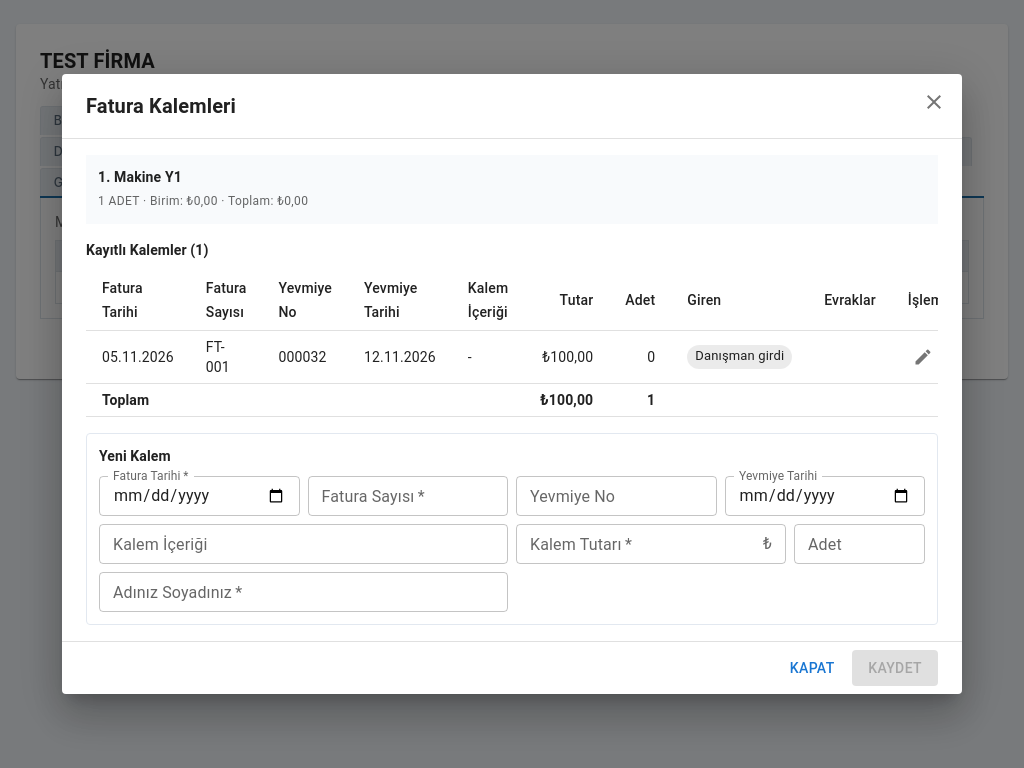
personel kaynaklı yerli faturanın değerleri ve yevmiyesi müşteri linkinden düzeltilir
The image size is (1024, 768).
Earlier steps of the test are not shown.
Later steps or results of the test are not shown.
Click the button named "FT-001 düzenle": {"x": 923, "y": 357} 908,342 -> 938,372
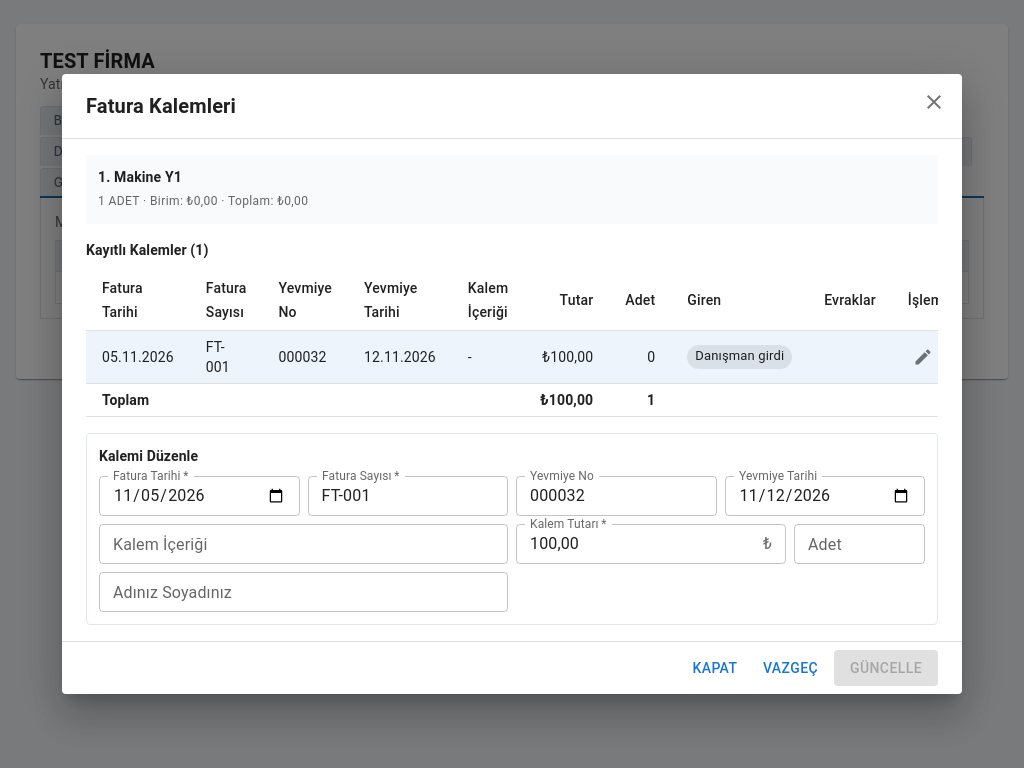
Expected: the button "Güncelle" is disabled, 834,650 -> 938,686
Expected: the field labelled "Yevmiye No" holds "000032", 516,476 -> 716,516
Expected: the date field labelled "Yevmiye Tarihi" holds "2026-11-12", 724,476 -> 925,516
In the date field labelled "Fatura Tarihi *": {"x": 199, "y": 496} 99,476 -> 300,516, type "2026-11-06"
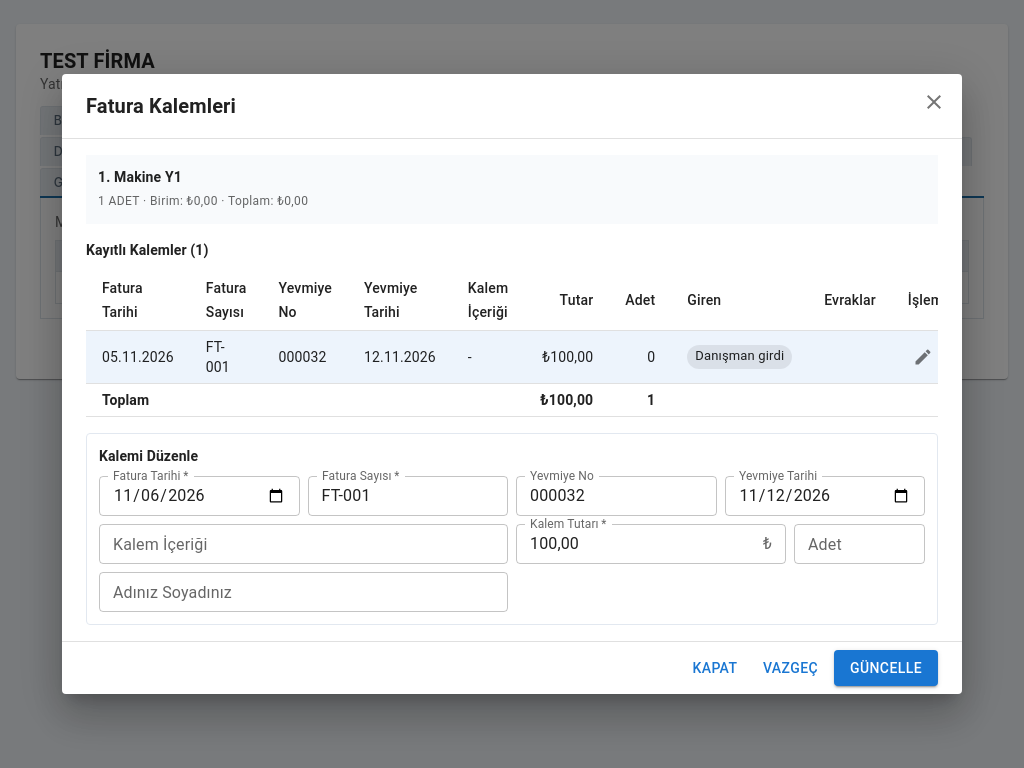
Replace the text in the field labelled "Fatura Sayısı *" with "FT-002": {"x": 408, "y": 496} 308,476 -> 508,516
Clear the field labelled "Yevmiye No": {"x": 616, "y": 496} 516,476 -> 716,516
Clear the date field labelled "Yevmiye Tarihi": {"x": 825, "y": 496} 724,476 -> 925,516
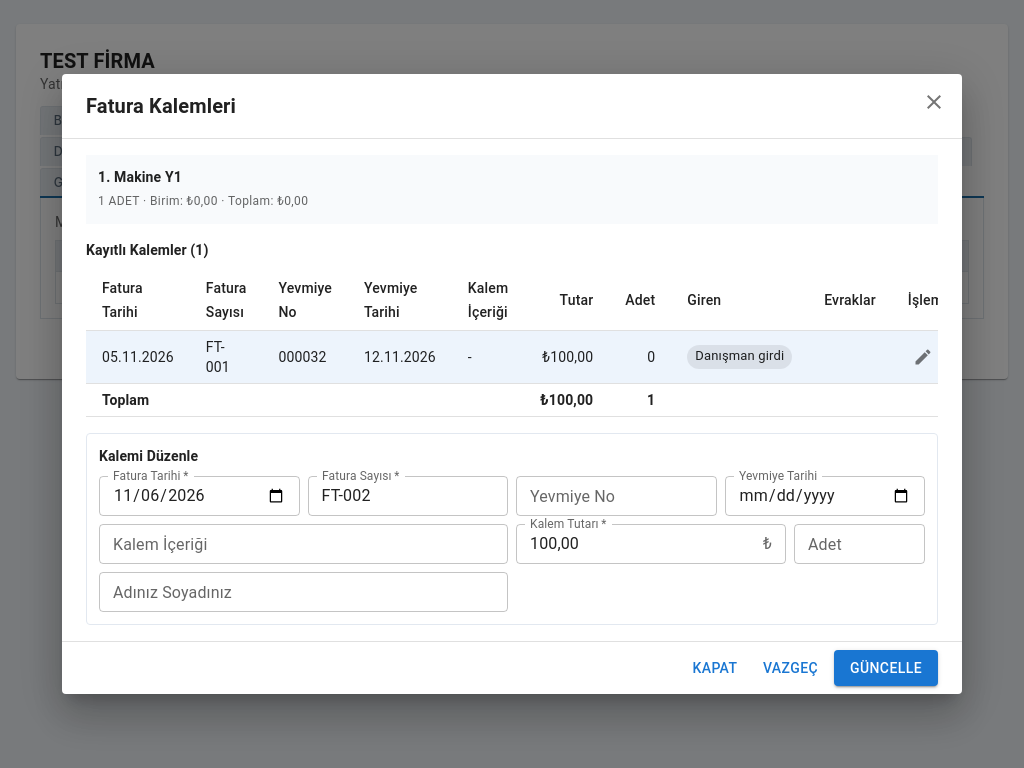
Replace the text in the field labelled "Kalem Tutarı *" with "1.250,75": {"x": 635, "y": 544} 516,524 -> 755,564
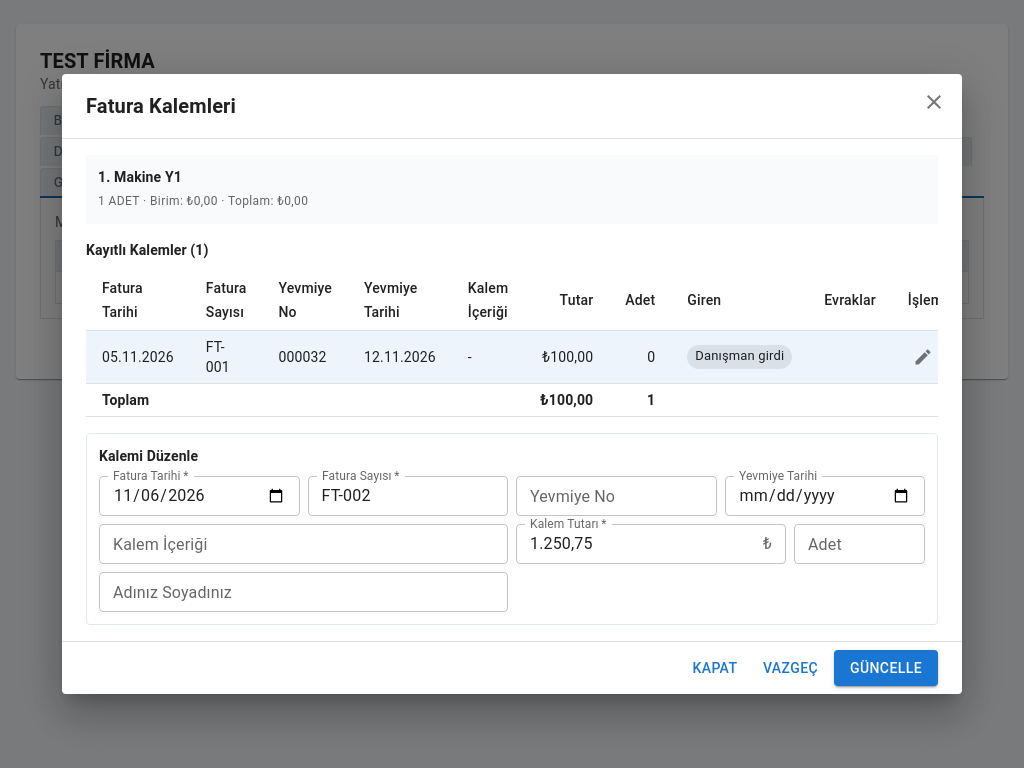
In the number field labelled "Adet": {"x": 860, "y": 544} 794,524 -> 925,564, type "3"
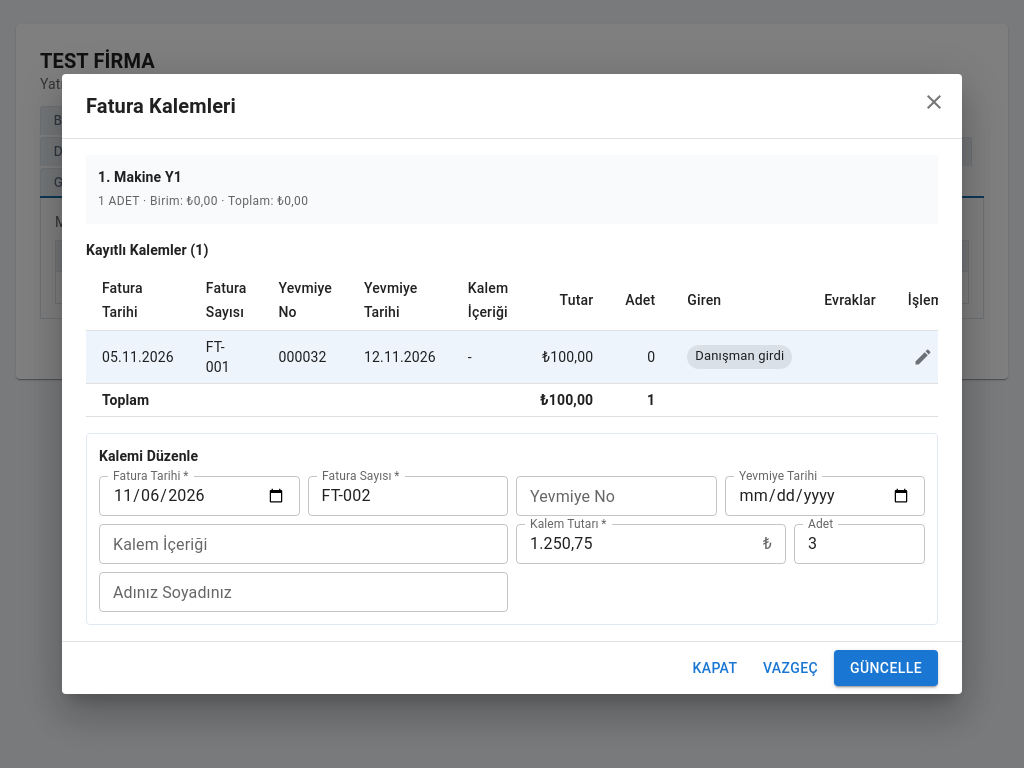
Click the button "Güncelle": {"x": 886, "y": 668} 834,650 -> 938,686
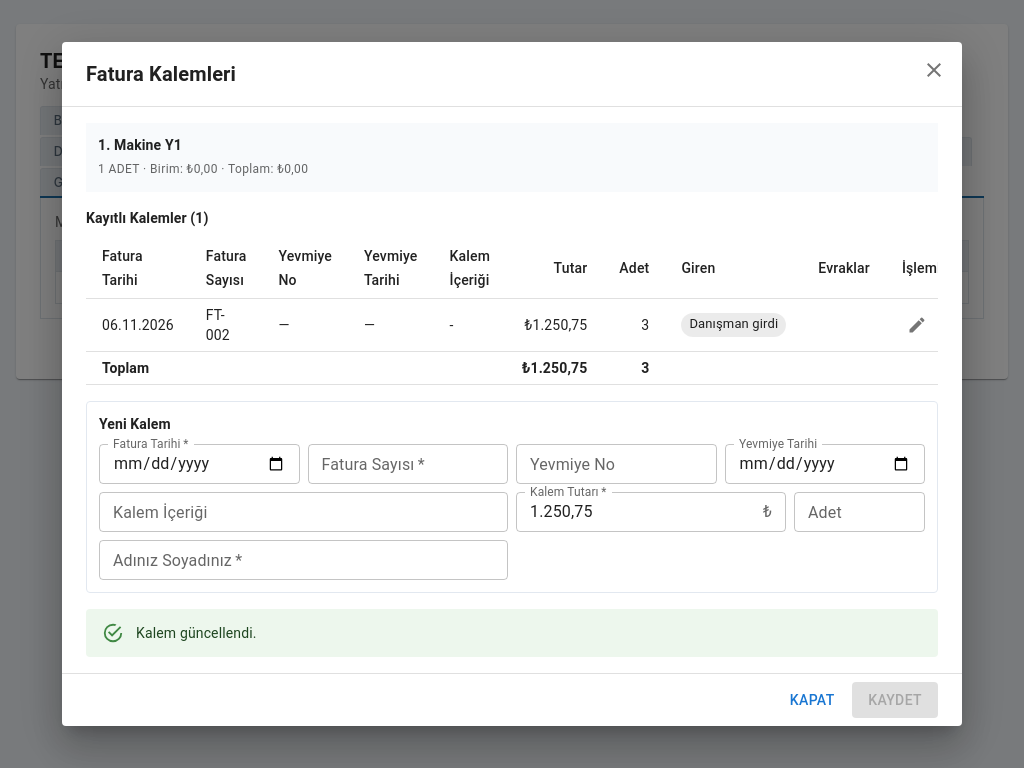
Expected: the text "Kalem güncellendi." is shown, 136,625 -> 257,641
Expected: the button "Kaydet" is disabled, 852,682 -> 938,718
